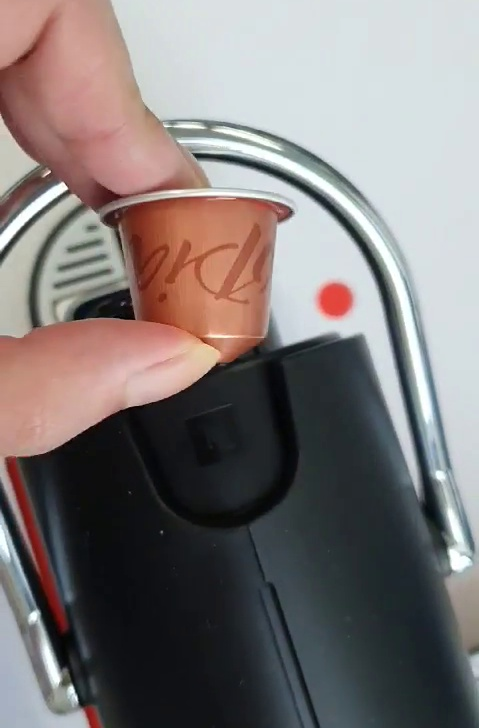capsule_6: (90, 185, 297, 373)
